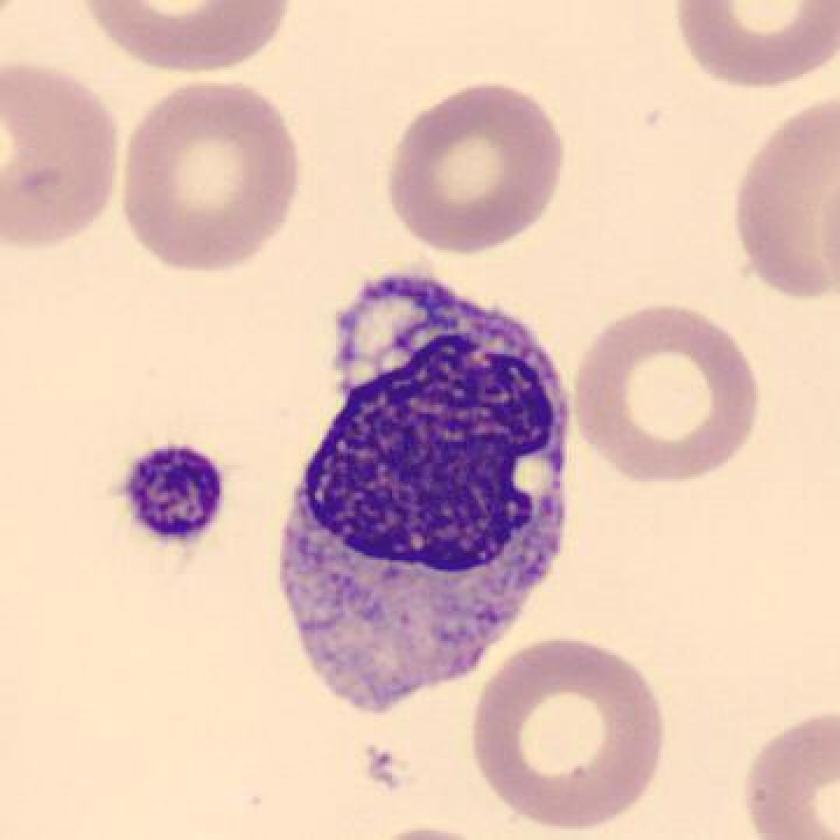monocyte: (253, 258, 598, 737)
